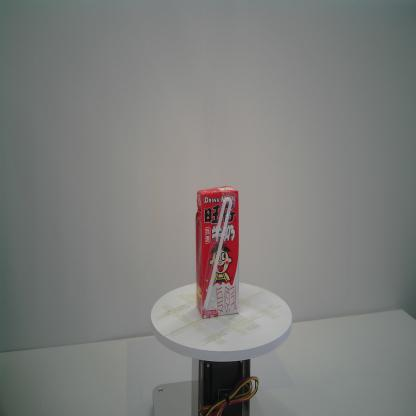Milk: (195, 185, 239, 319)
